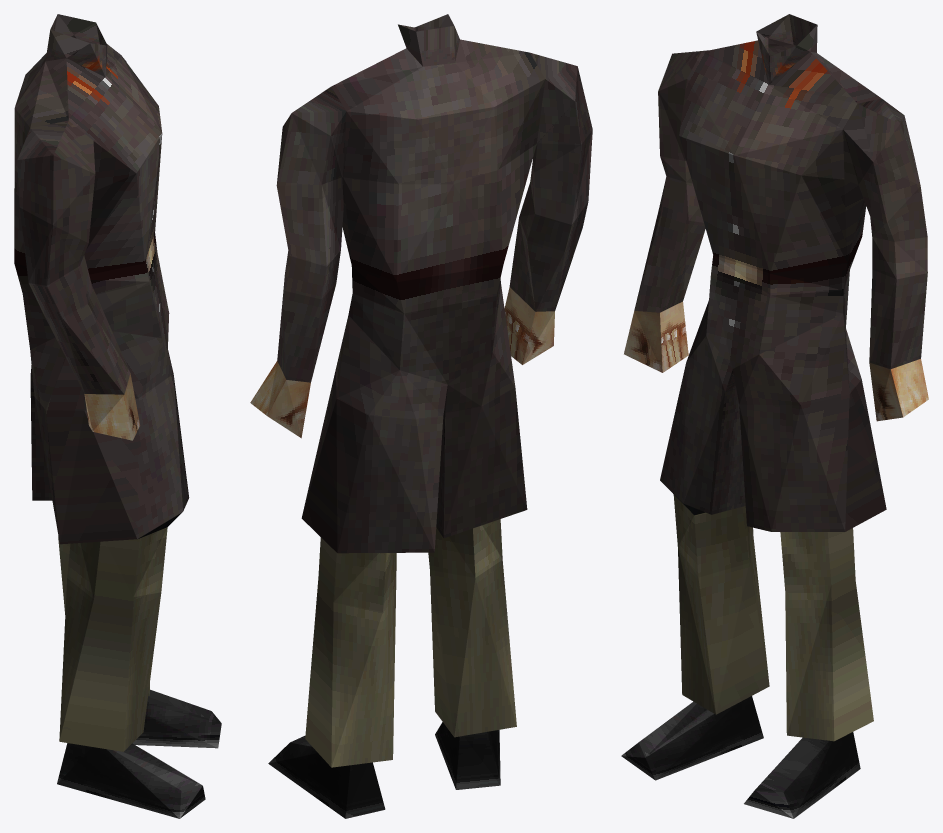
File: primary_079.glb
3 renders of one model, left to right at view 1: azimuth 30°, elevation 25°; view 2: azimuth 150°, elevation 25°; view 3: azimuth 270°, elevation 25°, orthographic. The views are drawn at different scales.
Visible parts, largest first — view 1: Object; view 2: Object; view 3: Object.
Part boxes in pixels (x1,y1,x2,y2): Object: (14,14,221,818); Object: (250,14,592,818); Object: (621,14,928,818).
Bounding box in the file's own units: 0.631 × 1.8 × 0.691.
77 materials, 77 textured.
